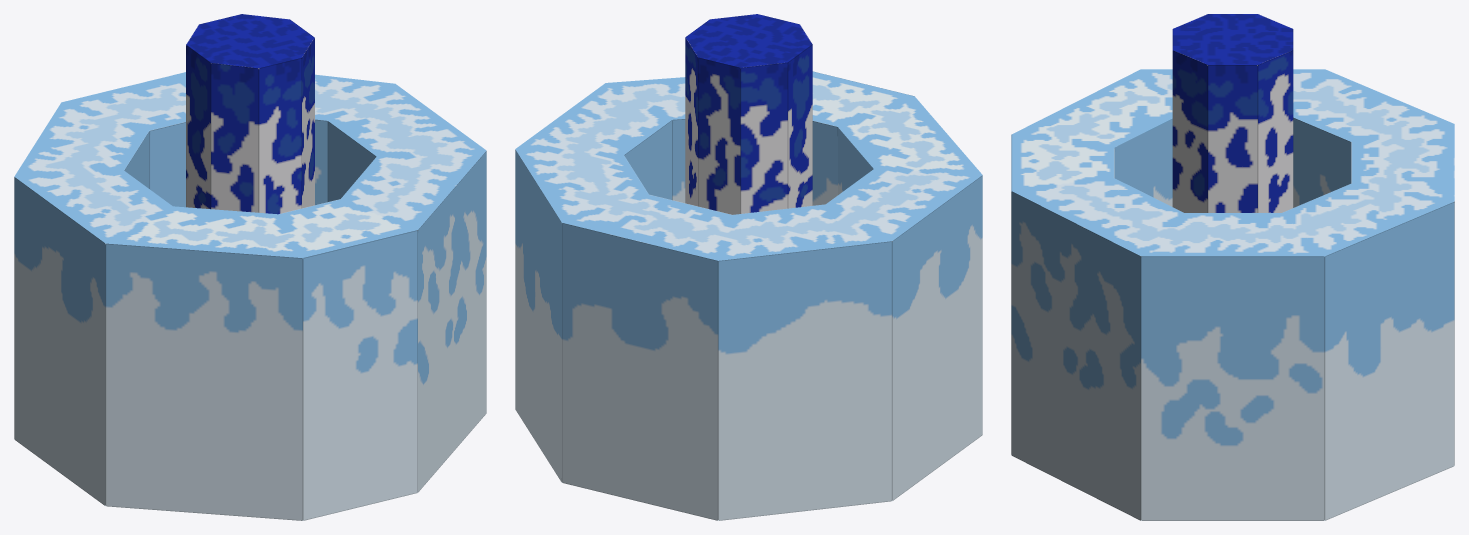
The picture shows the model from 3 angles, left to right: view 1: azimuth 30°, elevation 25°; view 2: azimuth 150°, elevation 25°; view 3: azimuth 270°, elevation 25°; orthographic projection.
Visible parts, largest first — view 1: low, cylinder; view 2: low, cylinder; view 3: low, cylinder.
Part boxes in pixels (x1=…): low: x1=14, y1=72, x2=486, y2=520; cylinder: x1=186, y1=14, x2=314, y2=214; low: x1=515, y1=71, x2=982, y2=520; cylinder: x1=685, y1=14, x2=812, y2=214; low: x1=1011, y1=69, x2=1454, y2=520; cylinder: x1=1172, y1=14, x2=1293, y2=212.
Size of the model in its own units: 1100 by 1062 by 1100.
Materials: 2 (2 with a texture image).
